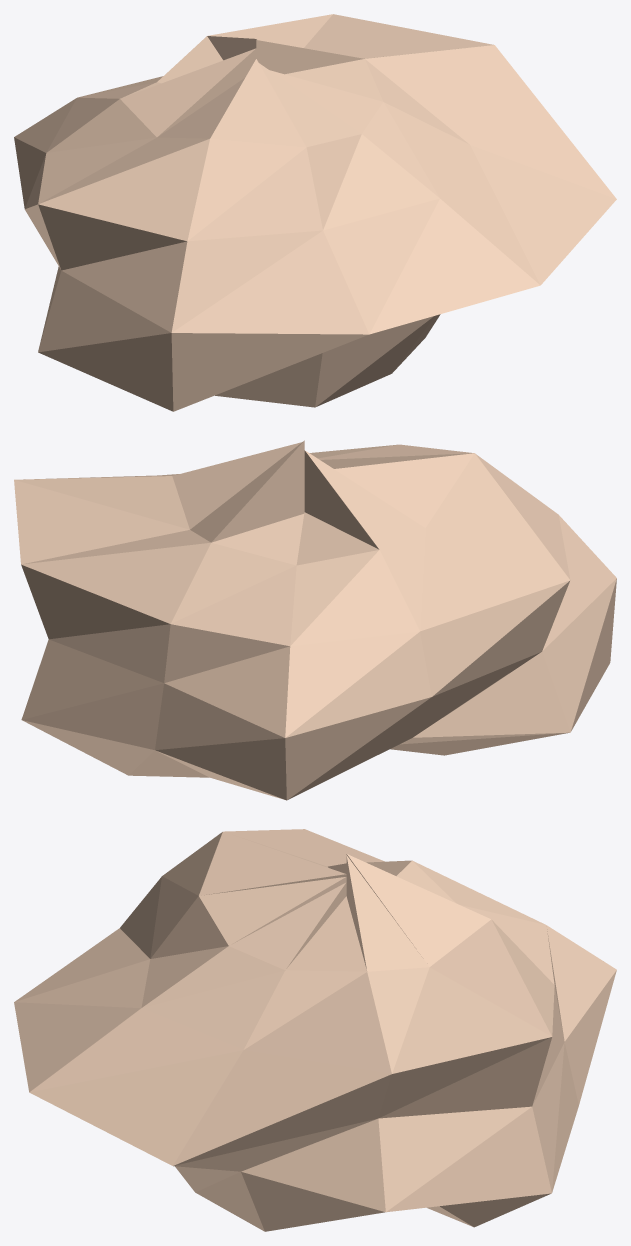
Rendered from rock_030.obj.
The picture shows the model from 3 angles, top to bottom: view 1: azimuth 30°, elevation 25°; view 2: azimuth 150°, elevation 25°; view 3: azimuth 270°, elevation 25°; orthographic projection. The views are drawn at different scales.
Bounding box in the file's own units: 1.45 × 0.8337 × 1.42.
